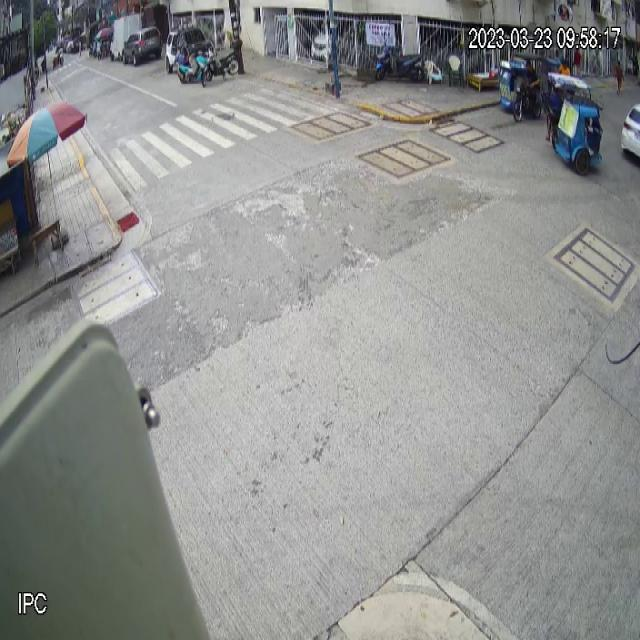Tricycle: (542, 72, 604, 175)
